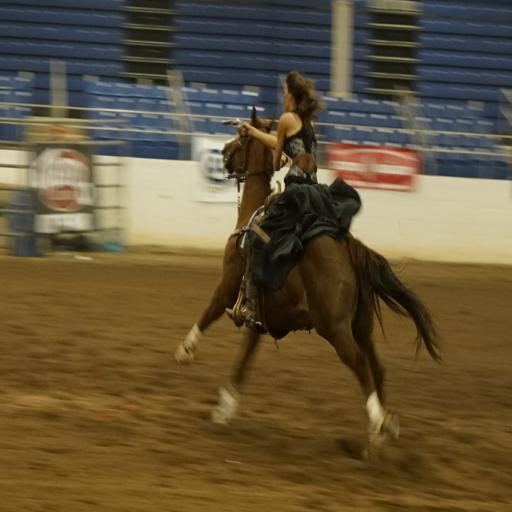Horse: (174, 103, 444, 462)
